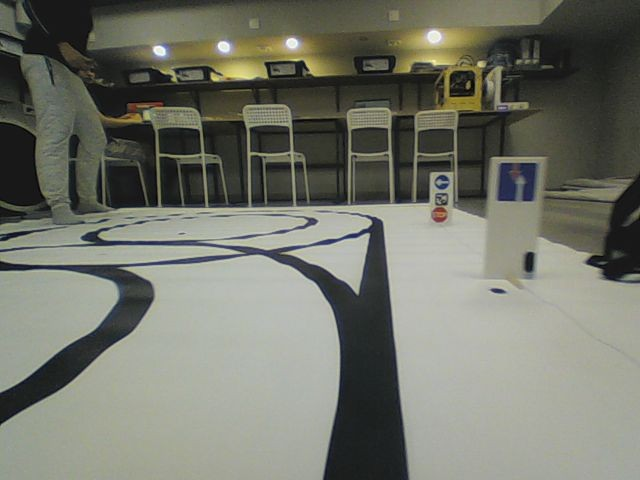Stop: (431, 206, 448, 222)
priority_movement: (495, 161, 538, 204)
